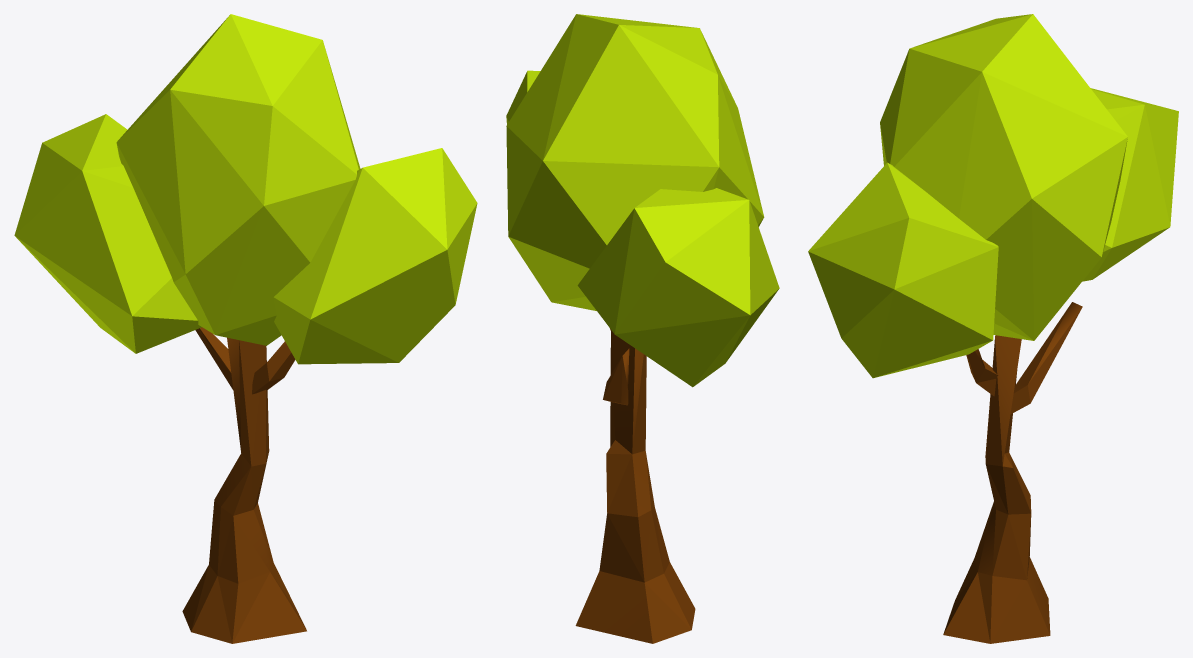
Rendered from m_new_tree.fbx.
3 views of the same model, side by side, from view 1: azimuth 30°, elevation 25°; view 2: azimuth 150°, elevation 25°; view 3: azimuth 270°, elevation 25° (orthographic). The views are drawn at different scales.
Parts seen in each view (by area): view 1: LEMON_TREE_2; view 2: LEMON_TREE_2; view 3: LEMON_TREE_2.
Boxes of the visible parts, x1,y1,x2,y2 form: LEMON_TREE_2: (14, 14, 477, 643); LEMON_TREE_2: (506, 14, 779, 643); LEMON_TREE_2: (808, 14, 1178, 643).
Size of the model in its own units: 257 by 415 by 230.
